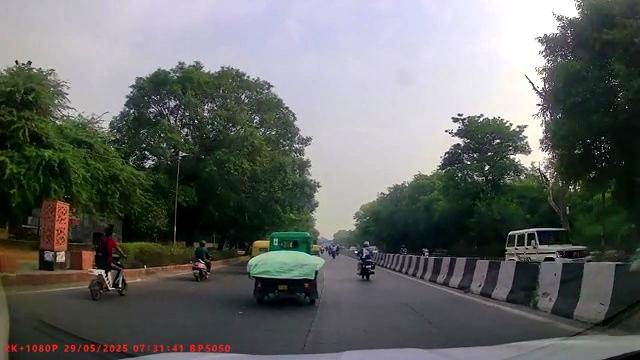motorcycle_without_helmet: (89, 225, 130, 300)
